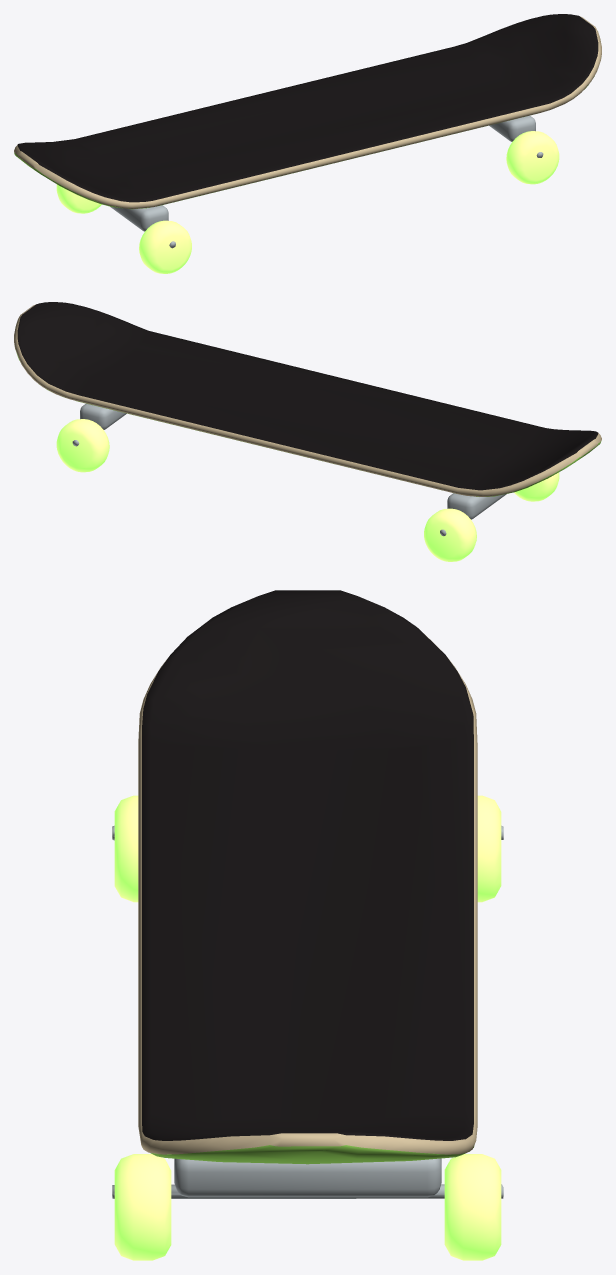
Rendered from board.glb.
The picture shows the model from 3 angles, top to bottom: view 1: azimuth 30°, elevation 25°; view 2: azimuth 150°, elevation 25°; view 3: azimuth 270°, elevation 25°; orthographic projection. The views are drawn at different scales.
Parts seen in each view (by area): view 1: Axle_B, Wheel_BL, Deck; view 2: Axle_B, Wheel_BL, Deck; view 3: Axle_B, Wheel_BL, Deck.
Part boxes in pixels (bbox=[...]): Axle_B: bbox=[14, 14, 601, 248]; Wheel_BL: bbox=[56, 131, 559, 273]; Deck: bbox=[14, 76, 594, 209]; Axle_B: bbox=[14, 302, 601, 536]; Wheel_BL: bbox=[56, 419, 559, 561]; Deck: bbox=[16, 352, 601, 496]; Axle_B: bbox=[112, 590, 503, 1198]; Wheel_BL: bbox=[114, 795, 501, 1260]; Deck: bbox=[150, 1145, 474, 1164].
Size of the model in its own units: 0.8293 by 0.1509 by 0.2491.
Materials: 3 (3 with a texture image).
